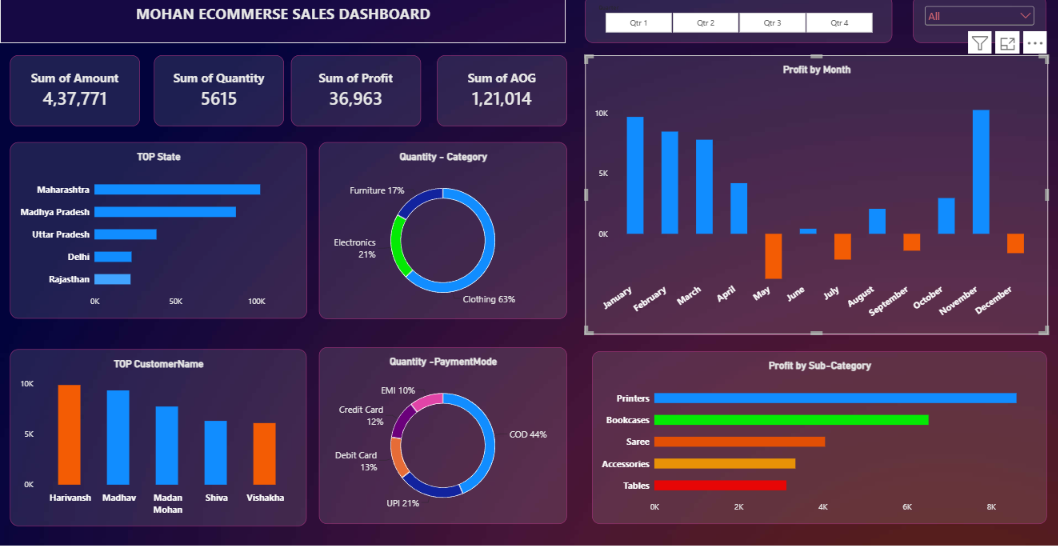

Layout of this report page (visuals, bound fields, positions):
{"tool":"powerbi","page":{"name":"Page 1","canvas":[1920,1080],"ordinal":0},"visuals":[{"type":"columnChart","title":" Profit by Month","fields":{"Category":["Orders.Order Date.Variation.Date Hierarchy.Month"],"Y":["Sum(Details.Profit)"]},"box":[1058,144.1,837.7,506.3],"z":0},{"type":"textbox","box":[0,37,1025,86.4],"z":1000},{"type":"barChart","title":" Profit by Sub-Category","fields":{"Category":["Details.Sub-Category"],"Y":["Sum(Details.Profit)"]},"box":[1071.3,680.4,823.4,313.1],"z":1001},{"type":"donutChart","title":" Quantity - Category","fields":{"Category":["Details.Category"],"Y":["Sum(Details.Quantity)"]},"box":[577.3,302.2,448.8,320.3],"z":1002},{"type":"donutChart","title":"Quantity -PaymentMode","fields":{"Category":["Details.PaymentMode"],"Y":["Sum(Details.Quantity)"]},"box":[577.3,673.2,448.8,320.3],"z":1003},{"type":"cardVisual","fields":{"Data":["Sum(Details.Amount)"]},"box":[18.5,144.1,235.3,128.5],"z":1004},{"type":"cardVisual","fields":{"Data":["Sum(Details.Quantity)"]},"box":[277.9,144.1,235.3,128.5],"z":1005},{"type":"cardVisual","fields":{"Data":["Sum(Details.Profit)"]},"box":[526.9,144.1,235.3,128.5],"z":1006},{"type":"cardVisual","fields":{"Data":["Sum(Details.AOG)"]},"box":[790.4,144.1,235.3,128.5],"z":1007},{"type":"barChart","title":"TOP State","fields":{"Category":["Orders.State"],"Y":["Sum(Details.Amount)"]},"box":[18.5,302.6,537.2,319],"z":1008},{"type":"columnChart","title":"TOP  CustomerName","fields":{"Category":["Orders.CustomerName"],"Y":["Sum(Details.Amount)"]},"box":[18.5,677.2,537,320],"z":1009},{"type":"slicer","fields":{"Values":["Orders.Order Date.Variation.Date Hierarchy.Quarter"]},"box":[1058,37,555.7,86.4],"z":1010},{"type":"slicer","fields":{"Values":["Orders.State"]},"box":[1652.8,37,240.8,86.4],"z":1011}]}

Visuals, with their boxes on the page's 1920x1080 design canvas (x1, y1, x2, y2). These are canvas units, not pixel positions in the 1058x546 screenshot, which may show the page scaled, cropped or inside an application window:
" Profit by Month" columnChart: [1058,144,1896,650]
textbox: [0,37,1025,123]
" Profit by Sub-Category" barChart: [1071,680,1895,994]
" Quantity - Category" donutChart: [577,302,1026,622]
"Quantity -PaymentMode" donutChart: [577,673,1026,994]
cardVisual - Sum(Details.Amount): [18,144,254,273]
cardVisual - Sum(Details.Quantity): [278,144,513,273]
cardVisual - Sum(Details.Profit): [527,144,762,273]
cardVisual - Sum(Details.AOG): [790,144,1026,273]
"TOP State" barChart: [18,303,556,622]
"TOP  CustomerName" columnChart: [18,677,556,997]
slicer - Orders.Order Date.Variation.Date Hierarchy.Quarter: [1058,37,1614,123]
slicer - Orders.State: [1653,37,1894,123]
